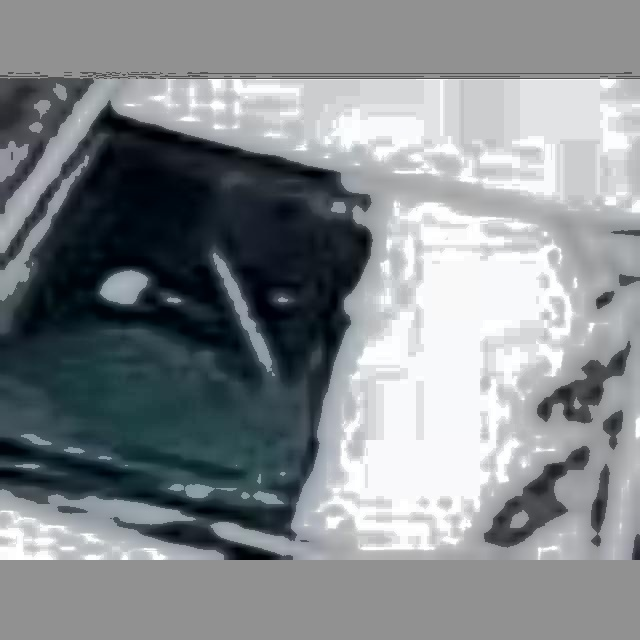pakai: (98, 154, 294, 373)
